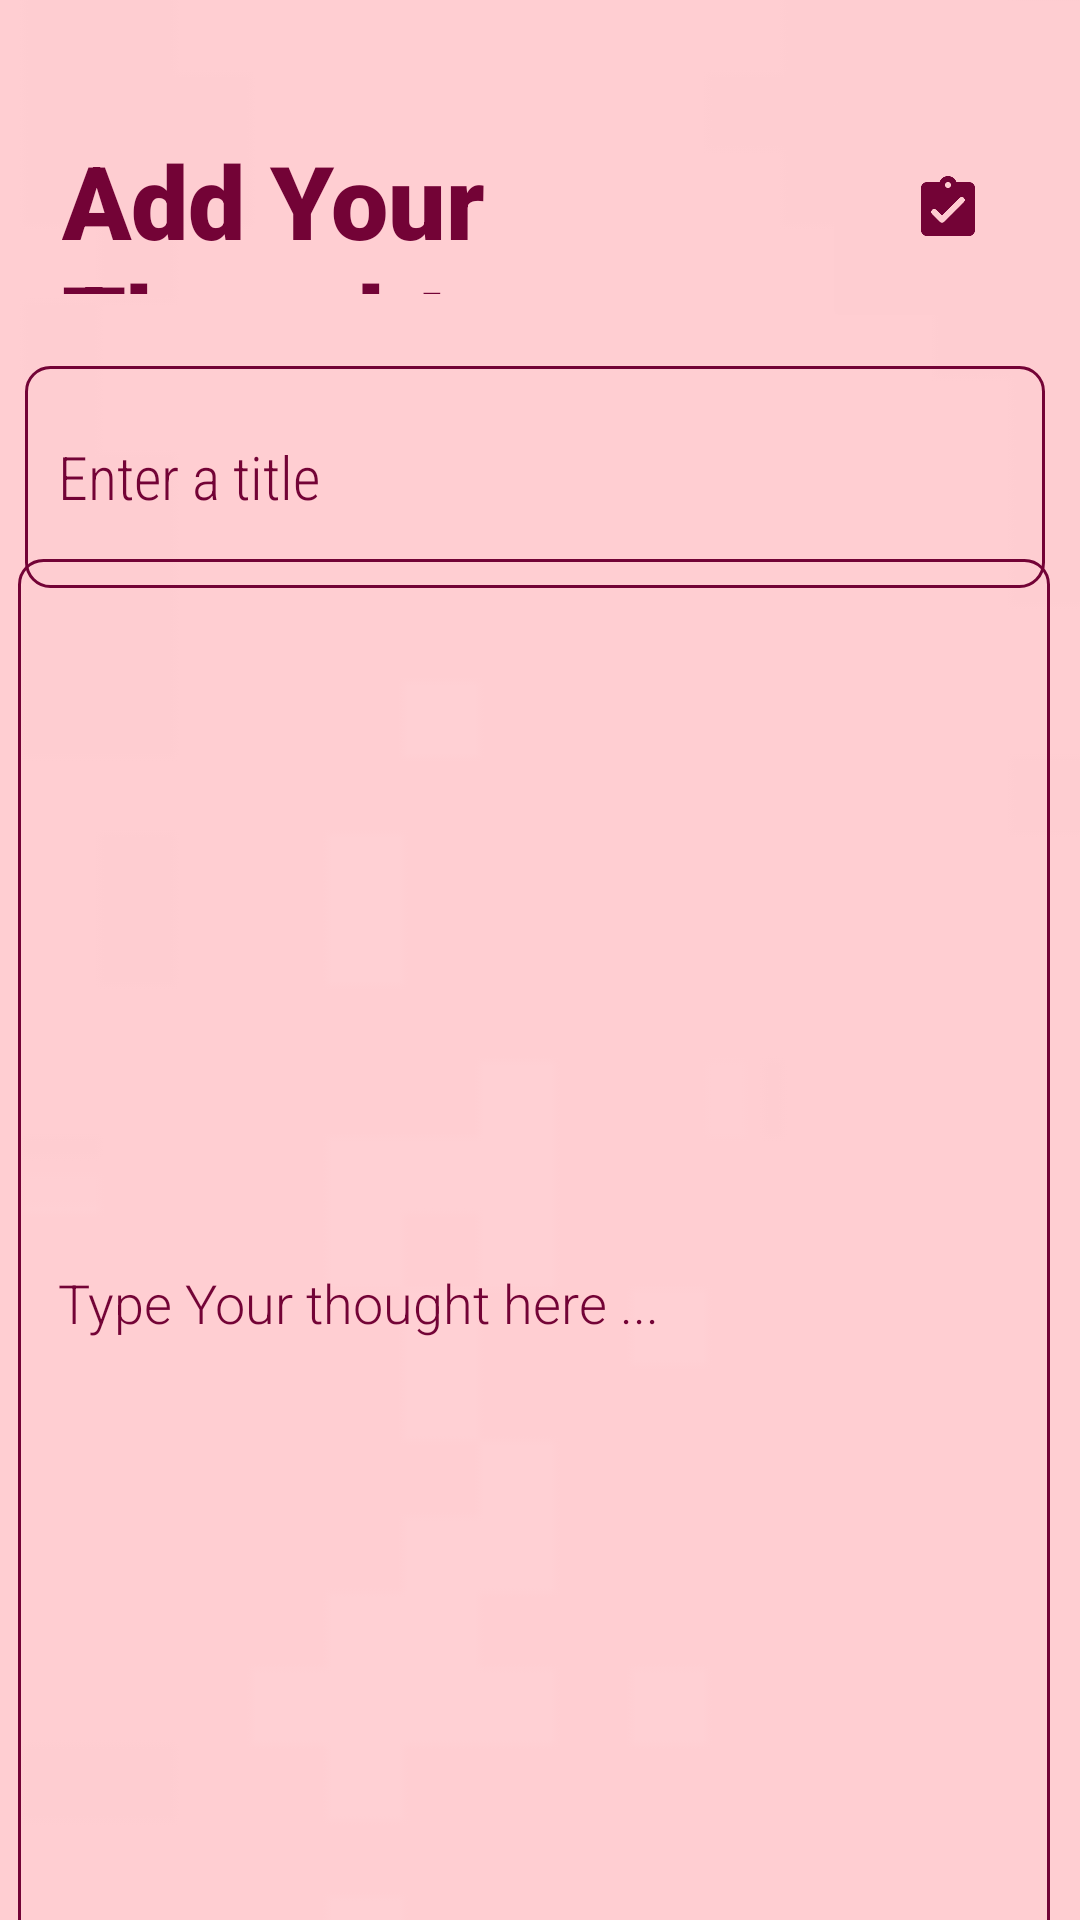

Screen size 1080×1920. Icon name, then its box in pixels as box(x1, y1, x2, y2):
assignment turned in: box(921, 176, 975, 236)
